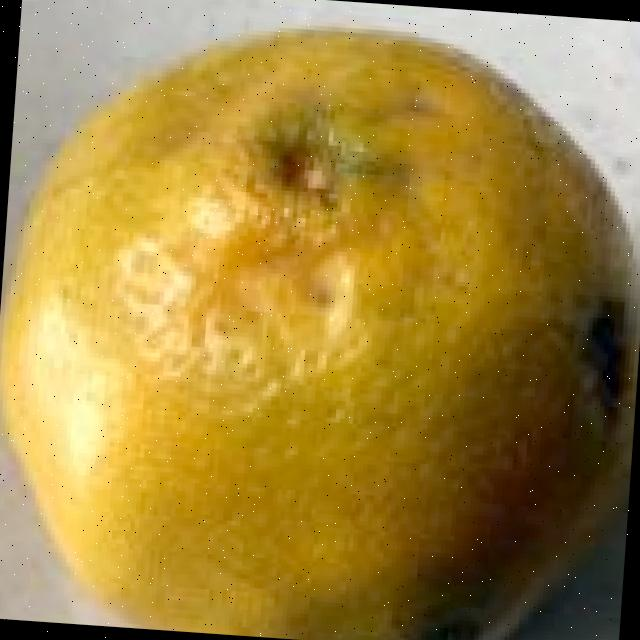Good_Orange-15-21 days: (0, 26, 640, 640)
